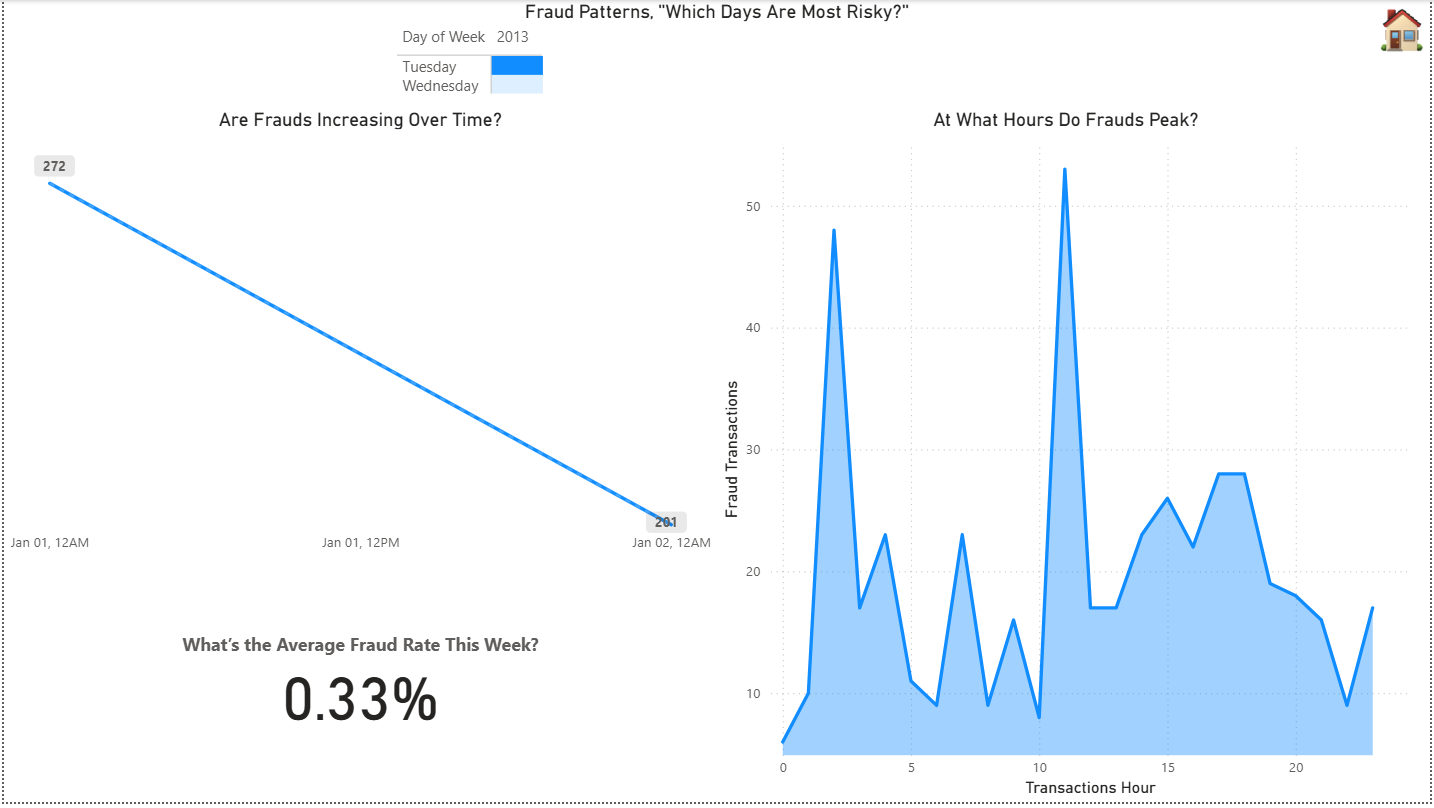

The page's visual inventory and layout, read from the dashboard file:
{"tool":"powerbi","page":{"name":"Fraud Hotspots","canvas":[1280,720],"ordinal":5},"visuals":[{"type":"lineChart","title":"Are Frauds Increasing Over Time?","fields":{"Y":["Sum(fraud_summary_by_day.fraud_transactions)"],"Category":["fraud_summary_by_day.date.Variation.Date Hierarchy.Year","fraud_summary_by_day.date.Variation.Date Hierarchy.Quarter","fraud_summary_by_day.date.Variation.Date Hierarchy.Month","fraud_summary_by_day.date.Variation.Date Hierarchy.Day"]},"box":[0,97,640.1,408.5],"z":0},{"type":"areaChart","title":"At What Hours Do Frauds Peak?","fields":{"Category":["fraud_summary_by_hour.transaction_hour"],"Y":["Sum(fraud_summary_by_hour.fraud_transactions)"]},"box":[640.1,97,626.6,623],"z":1},{"type":"pivotTable","title":"Fraud Patterns, \"Which Days Are Most Risky?\"","fields":{"Values":["Avg(fraud_summary_by_day.fraud_rate)"],"Columns":["fraud_summary_by_day.date.Variation.Date Hierarchy.Year","fraud_summary_by_day.date.Variation.Date Hierarchy.Quarter","fraud_summary_by_day.date.Variation.Date Hierarchy.Month","fraud_summary_by_day.date.Variation.Date Hierarchy.Day"],"Rows":["fraud_summary_by_day.day_of_week"]},"box":[347.4,0,585.3,97],"z":2},{"type":"cardVisual","fields":{"Data":["Sum(fraud_summary_by_day.fraud_rate)"]},"box":[0,505.4,640.1,214.6],"z":3},{"type":"image","box":[1230.2,0,49.8,54],"z":4}]}

Visuals, with their boxes in screenshot pixels (x1, y1, x2, y2), scaled from the page's 1280x720 canvas onto the 1434x808 screenshot:
"Are Frauds Increasing Over Time?" lineChart: rect(0, 109, 717, 567)
"At What Hours Do Frauds Peak?" areaChart: rect(717, 109, 1419, 807)
"Fraud Patterns, "Which Days Are Most Risky?"" pivotTable: rect(389, 0, 1045, 109)
cardVisual - Sum(fraud_summary_by_day.fraud_rate): rect(0, 567, 717, 807)
image: rect(1378, 0, 1433, 61)
